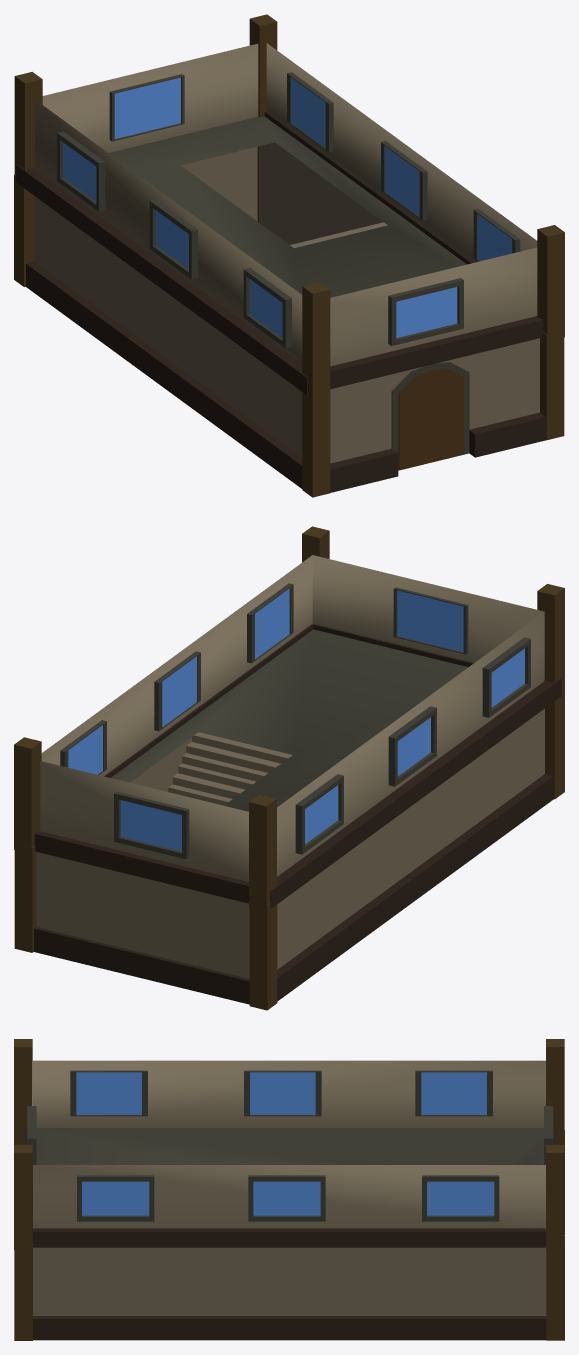
Rendered from CajaCasa 2.5 Interior 2.fbx.
3 renders of one model, top to bottom at view 1: azimuth 30°, elevation 25°; view 2: azimuth 150°, elevation 25°; view 3: azimuth 270°, elevation 25°, orthographic. The views are drawn at different scales.
Visible parts, largest first — view 1: Cimientos5.3; view 2: Cimientos5.3; view 3: Cimientos5.3.
Boxes of the visible parts, x1,y1,x2,y2 form: Cimientos5.3: (14,14,564,497); Cimientos5.3: (14,526,564,1010); Cimientos5.3: (14,1039,564,1340).
Bounding box in the file's own units: 698 × 536 × 1420.
